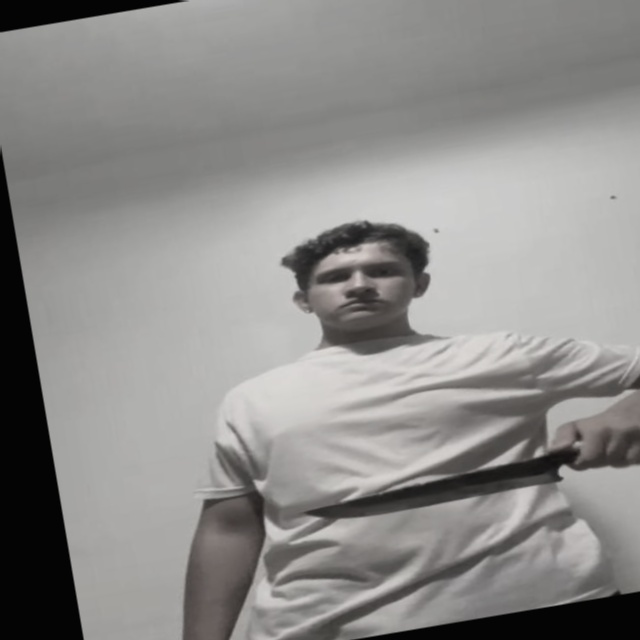Sharp-Object: (293, 454, 566, 531)
